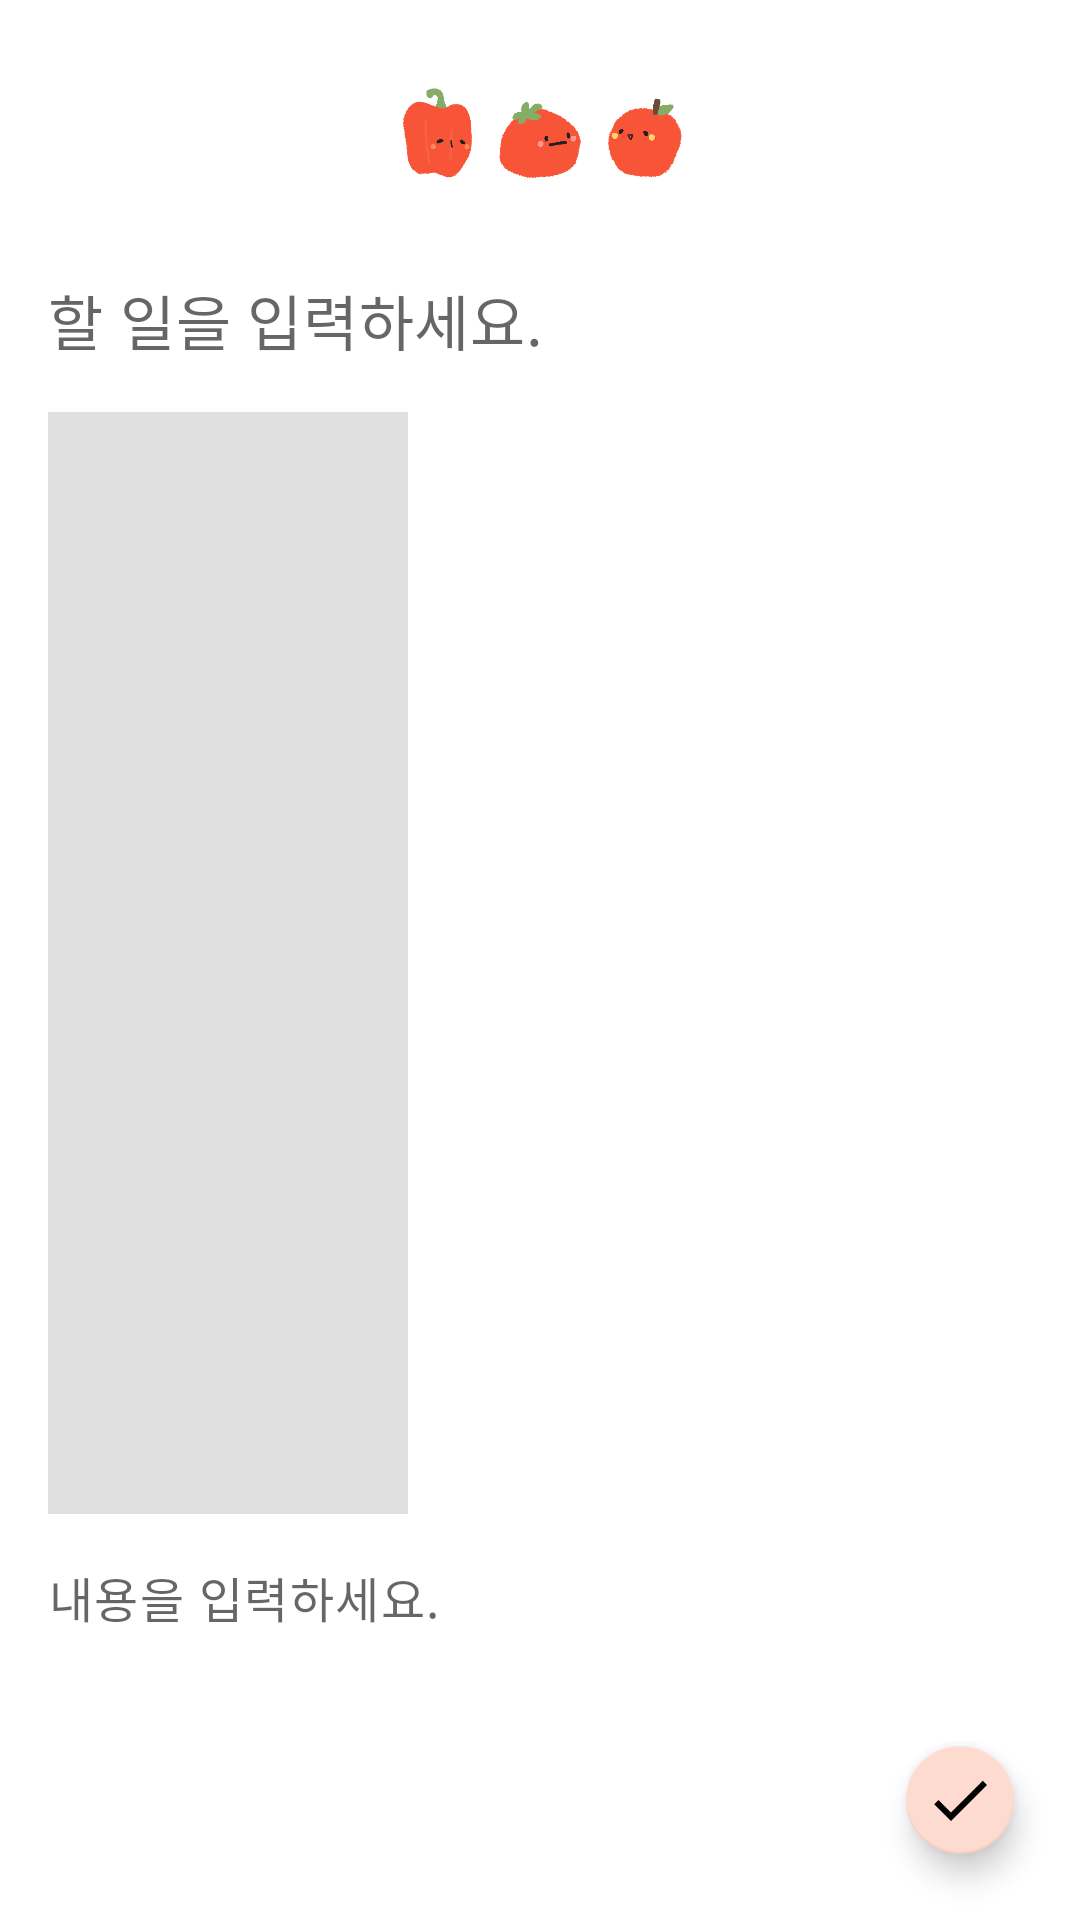

Where to tap for icons on this 1080px×1920px app screen, as [x,y]:
check: [961,1808]
pap tom app: [542,133]
